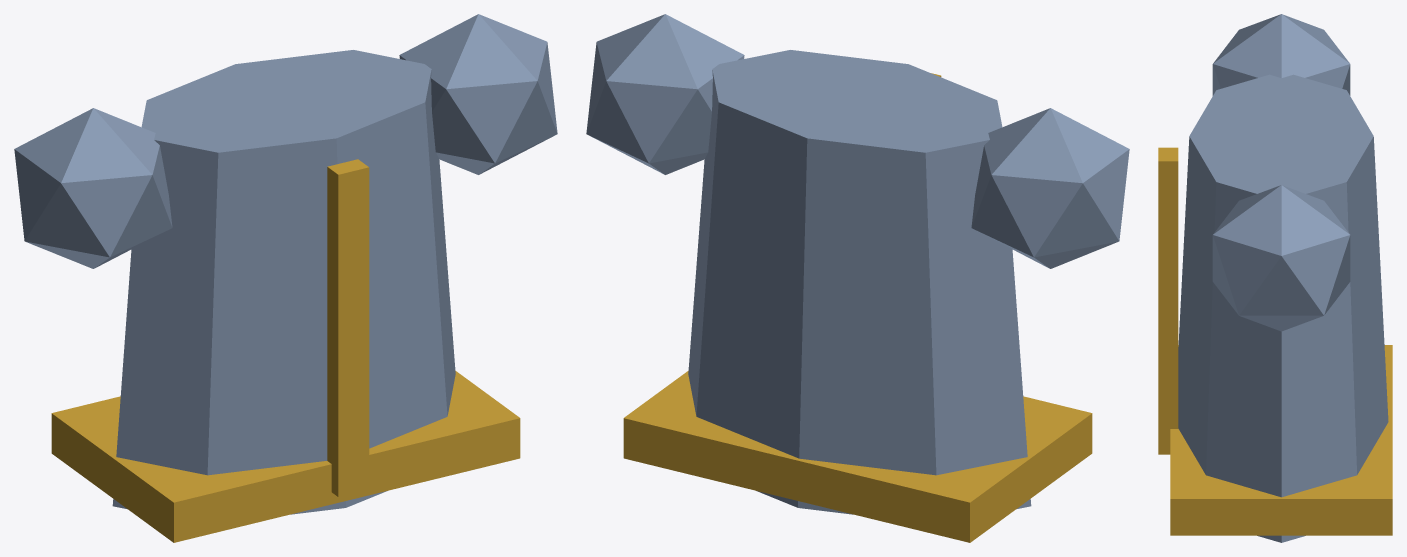
The model's file is SM_GZ_item_iron_armor.fbx.
The picture shows the model from 3 angles, left to right: view 1: azimuth 30°, elevation 25°; view 2: azimuth 150°, elevation 25°; view 3: azimuth 270°, elevation 25°; orthographic projection. The views are drawn at different scales.
Parts seen in each view (by area): view 1: SM_GZ_item_iron_armor; view 2: SM_GZ_item_iron_armor; view 3: SM_GZ_item_iron_armor.
Part boxes in pixels (x1,y1,x2,y2): SM_GZ_item_iron_armor: (14, 14, 557, 542); SM_GZ_item_iron_armor: (586, 14, 1129, 542); SM_GZ_item_iron_armor: (1158, 14, 1392, 542).
Bounding box in the file's own units: 136 × 100 × 58.
